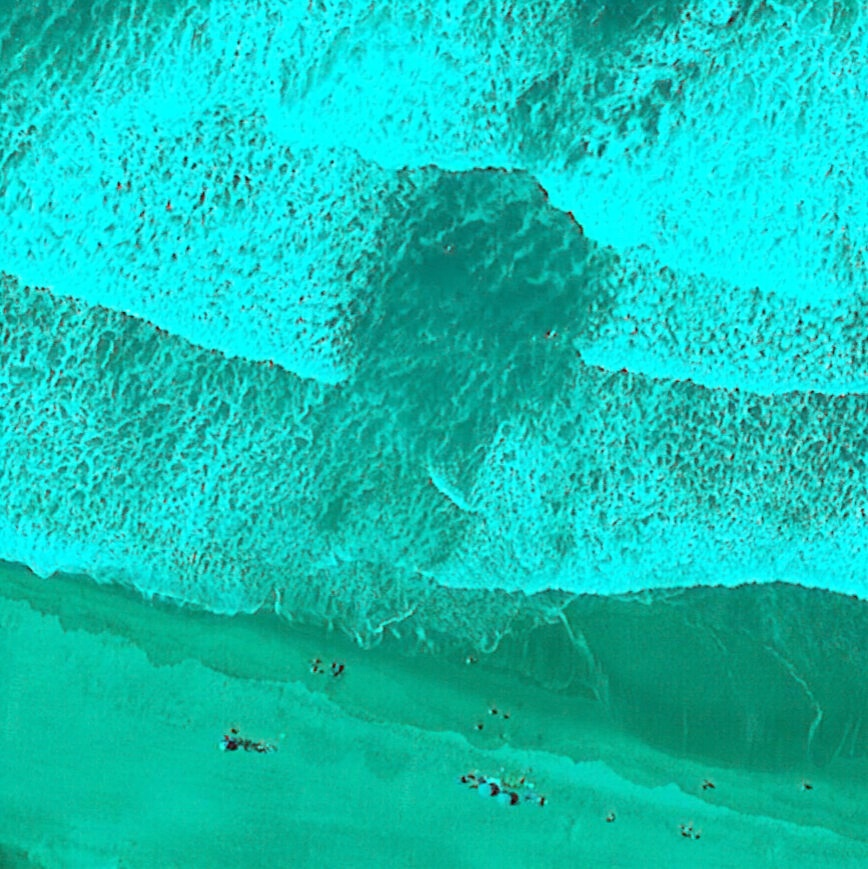rip_current: (335, 20, 643, 552)
